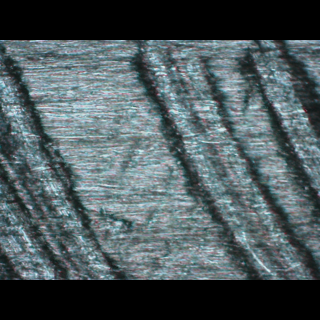d: (114, 42, 319, 277), (0, 45, 129, 278)
